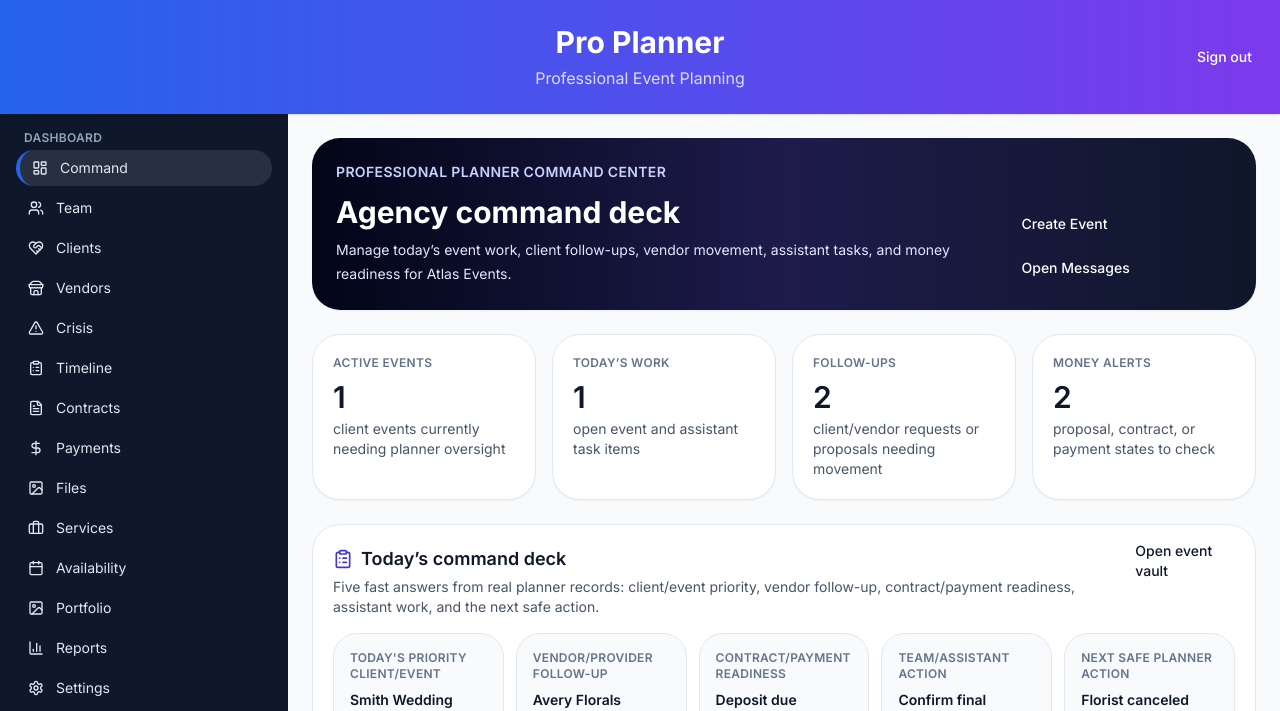
Scenario: ProPlannerDashboard › keeps client follow-up form controls readable on light cards
What coordinates should you click on to do the following:
click the button "Clients"
I would click on:
 (144, 248)
Its box is x1=16 y1=230 x2=272 y2=266.
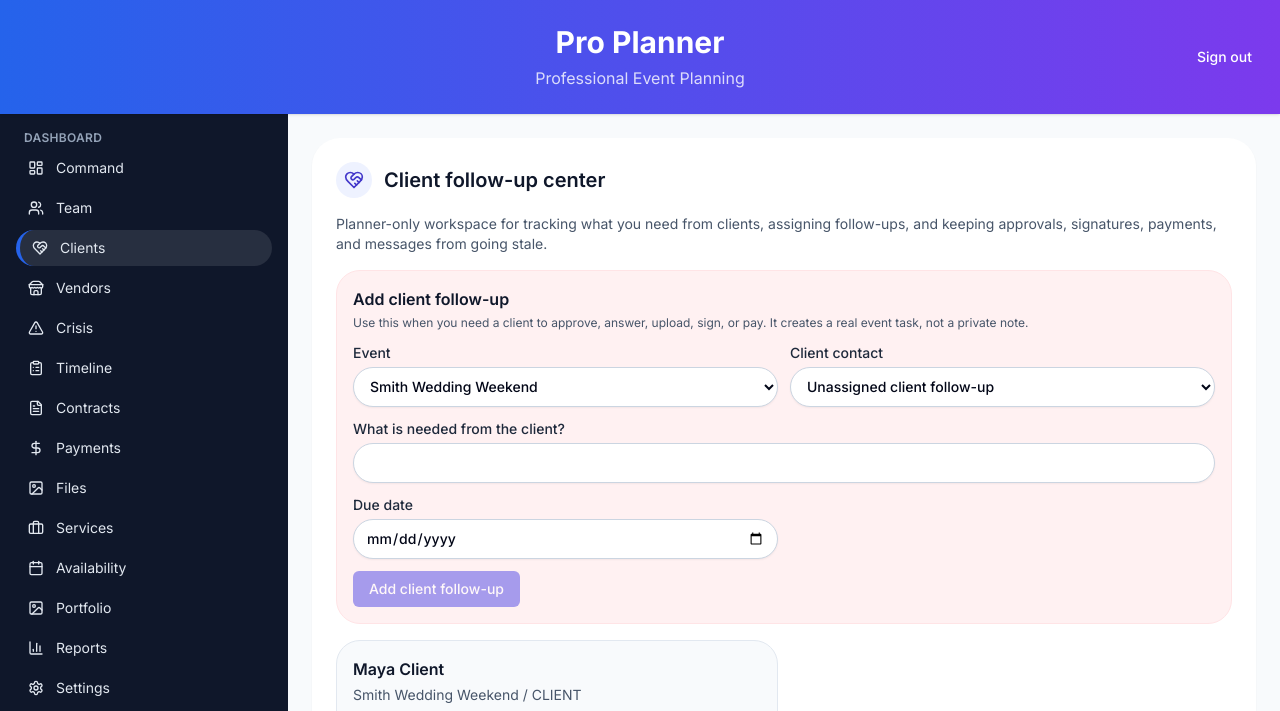
Now the form "Add client follow-up" is shown, box x1=336 y1=270 x2=1232 y2=624
Now the dropdown labelled "Event" is shown, box x1=353 y1=366 x2=778 y2=406
